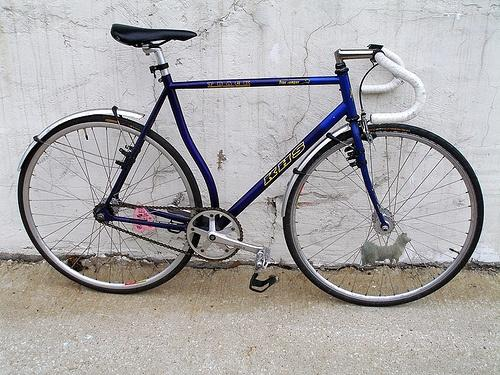tampered: (362, 234, 411, 265)
